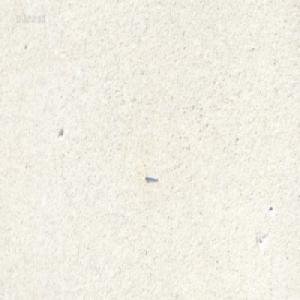Nail: (144, 172, 158, 181)
